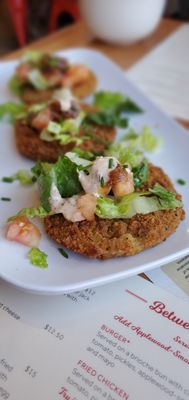pizza: (77, 0, 167, 47)
